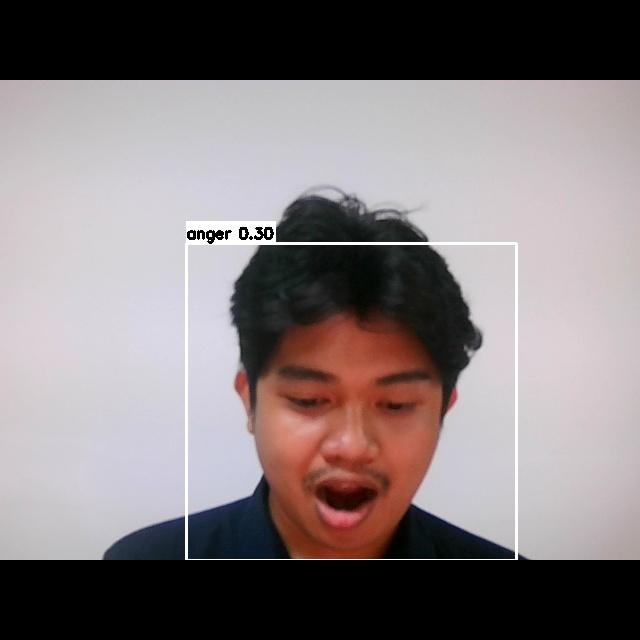Surprised: (252, 342, 449, 541)
